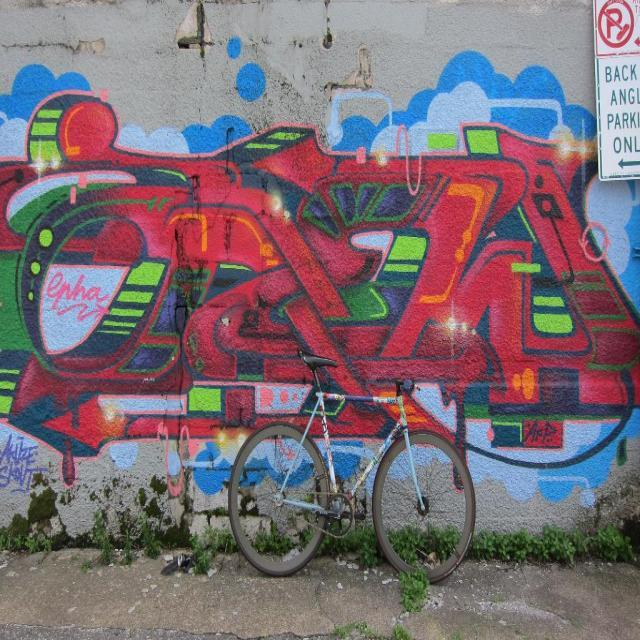car: (228, 348, 476, 582)
